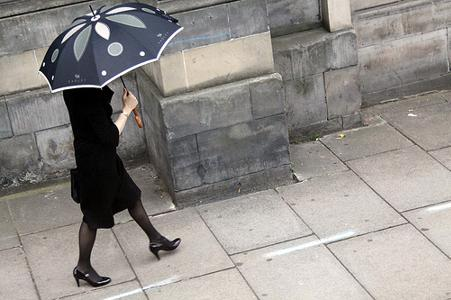person: (63, 86, 182, 288)
